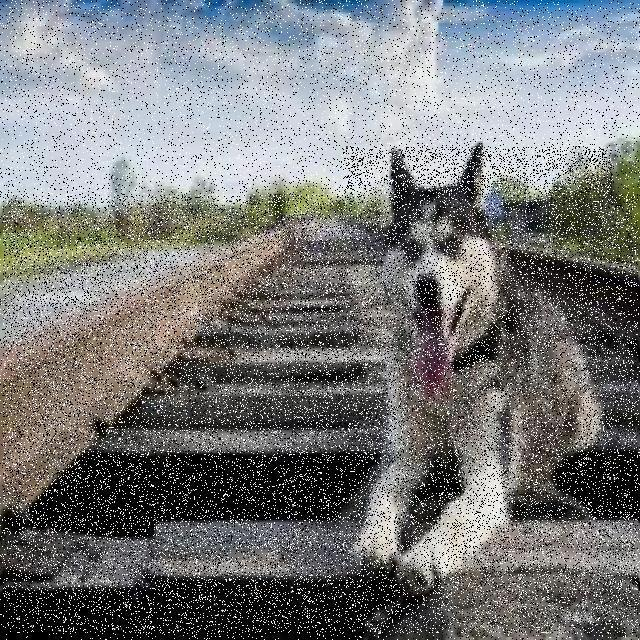rail: (4, 196, 639, 634)
